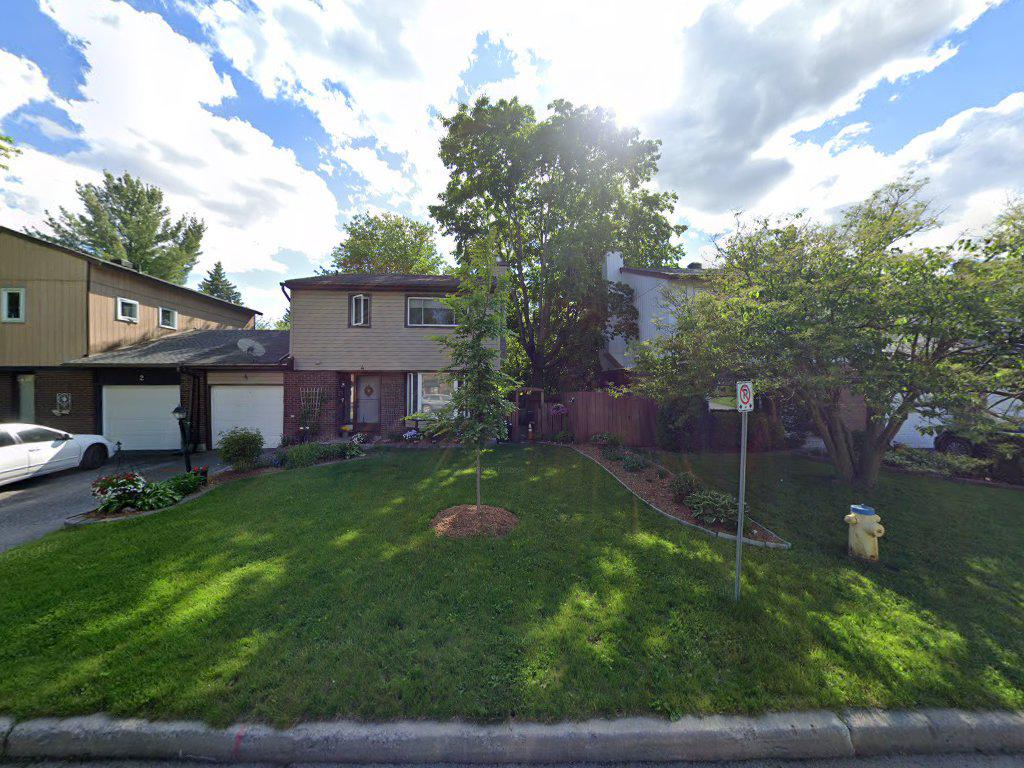trunk: (814, 400, 856, 487), (865, 399, 894, 484)
